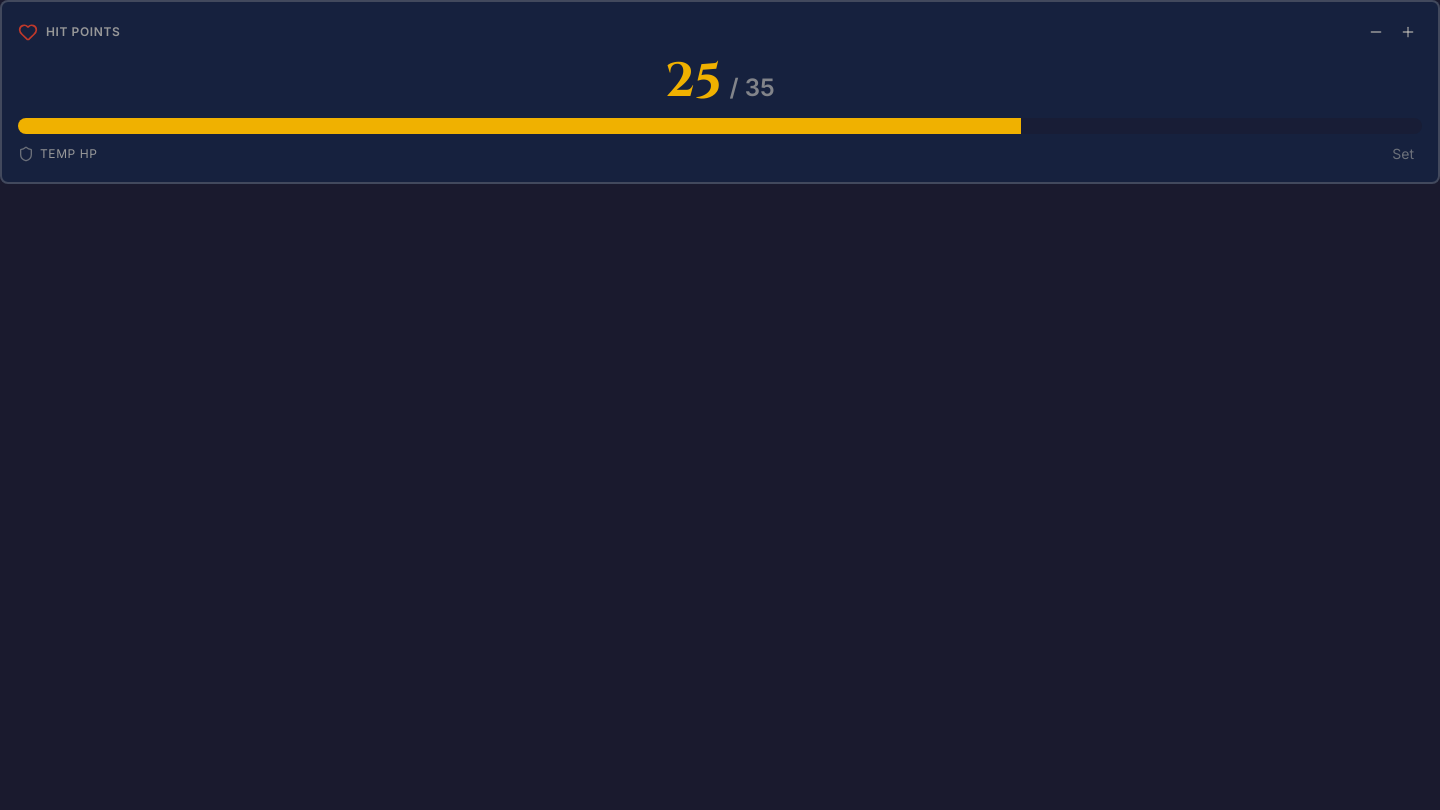
Test: HPSessionTracker › should open damage modal when minus button is clicked
The width and height of the screenshot is (1440, 810).
Click the button with test id "open-damage-modal" at [1376, 32], box [1362,18,1390,46]
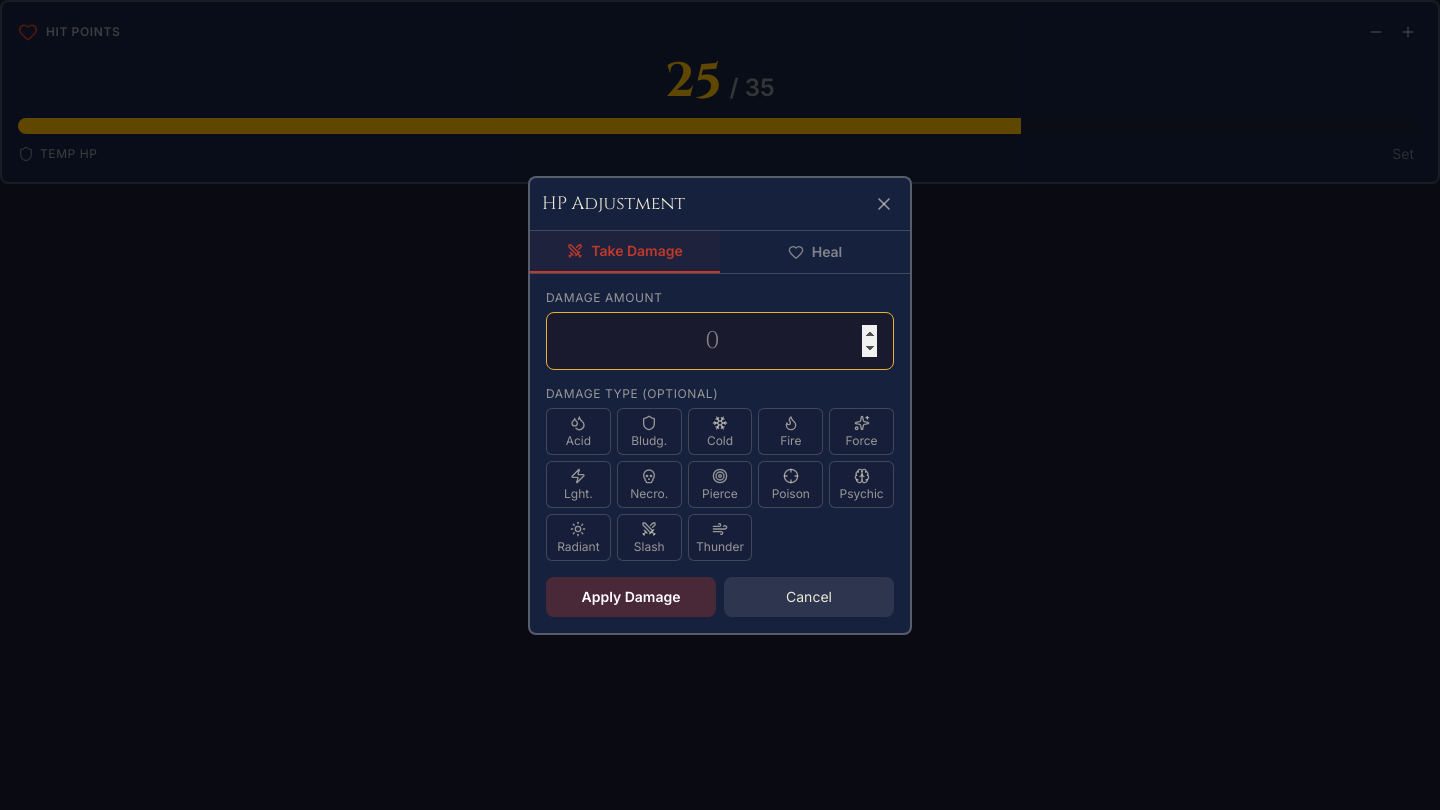
Expected: the dialog with test id "damage-heal-modal" is shown
Expected: the text "Damage Amount" is shown, [546,290,663,304]
